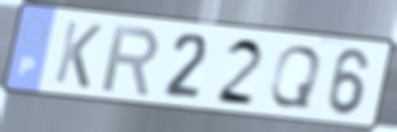2: (210, 36, 269, 108), (160, 31, 210, 102)
6: (326, 47, 373, 118)
K: (51, 18, 105, 91)
Q: (266, 43, 326, 111)
R: (99, 22, 162, 98)
